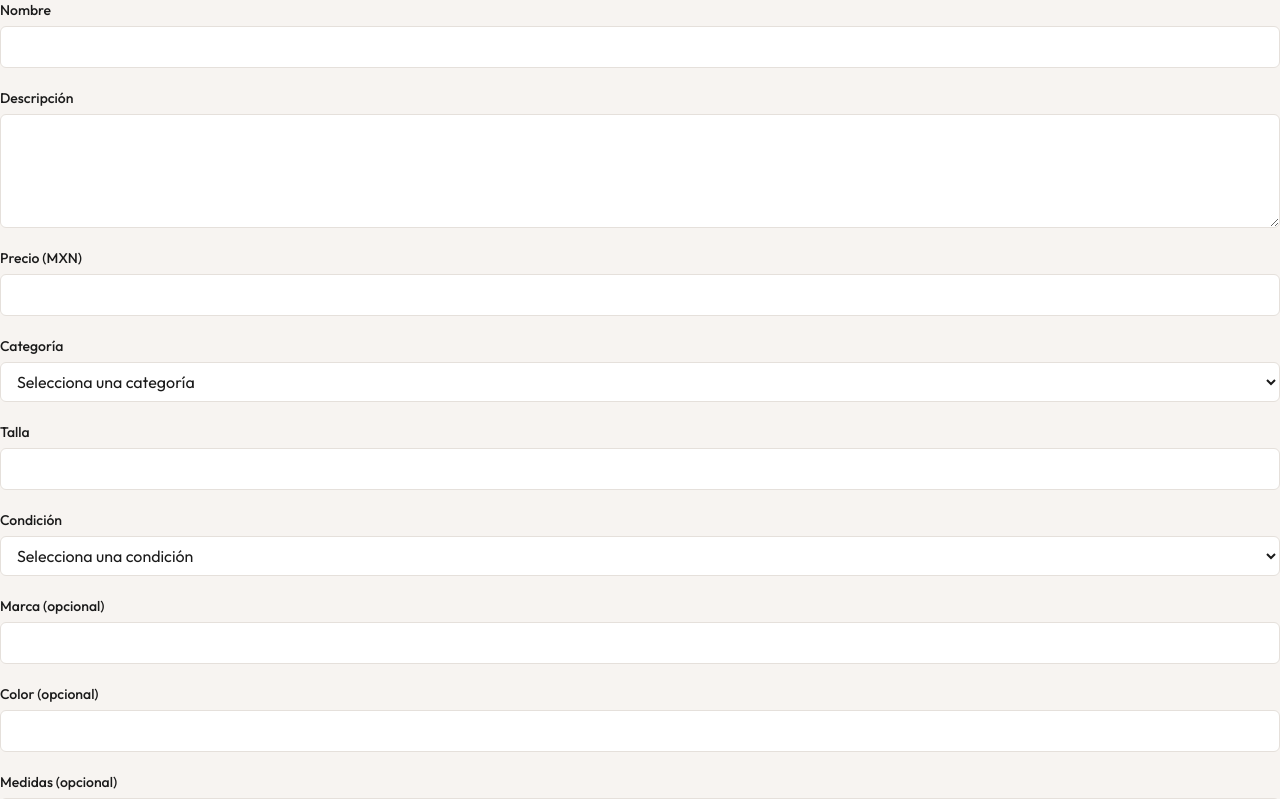
Test: ProductForm (create) › shows a formatted price preview as the amount is typed
Type "1500" into the field labelled "Precio (MXN)" at x=640, y=295, box [0, 274, 1279, 316]
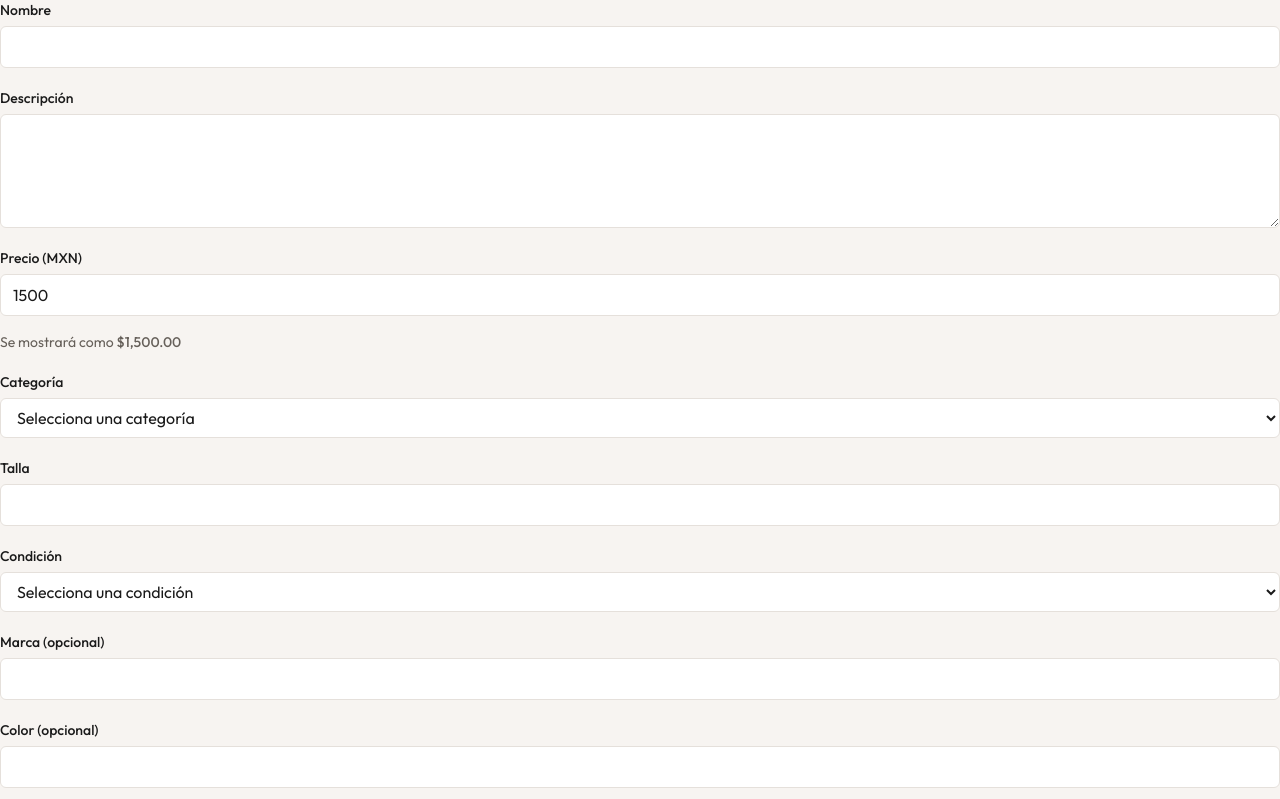
Expected: the text "$1,500.00" is shown, [117, 333, 181, 351]
